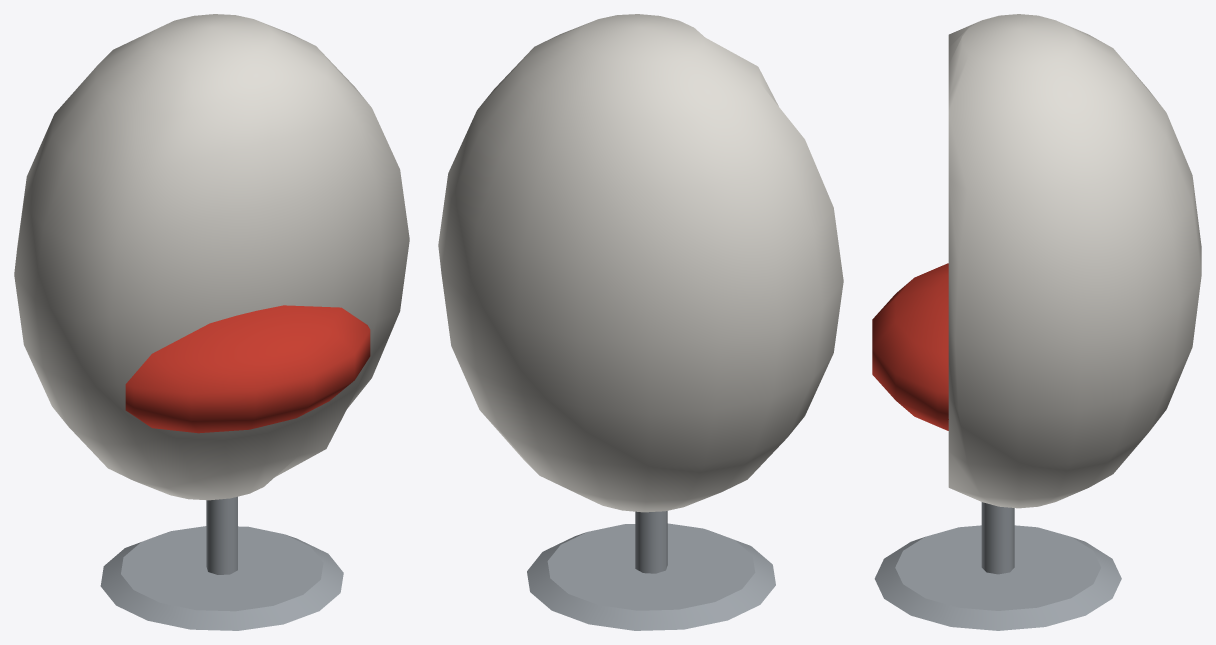
File: armchair_egg.glb
The picture shows the model from 3 angles, left to right: view 1: azimuth 30°, elevation 25°; view 2: azimuth 150°, elevation 25°; view 3: azimuth 270°, elevation 25°; orthographic projection. The views are drawn at different scales.
Parts seen in each view (by area): view 1: egg_chair; view 2: egg_chair; view 3: egg_chair.
Part boxes in pixels (x1,y1,x2,y2): egg_chair: (14, 14, 409, 630); egg_chair: (438, 14, 843, 630); egg_chair: (872, 14, 1201, 630).
Bounding box in the file's own units: 1 × 1.47 × 0.7983.
